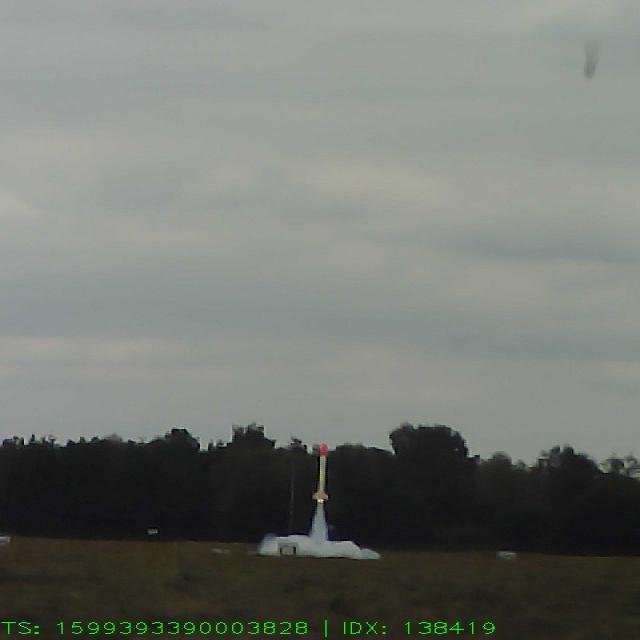Rocket: (312, 442, 329, 500)
